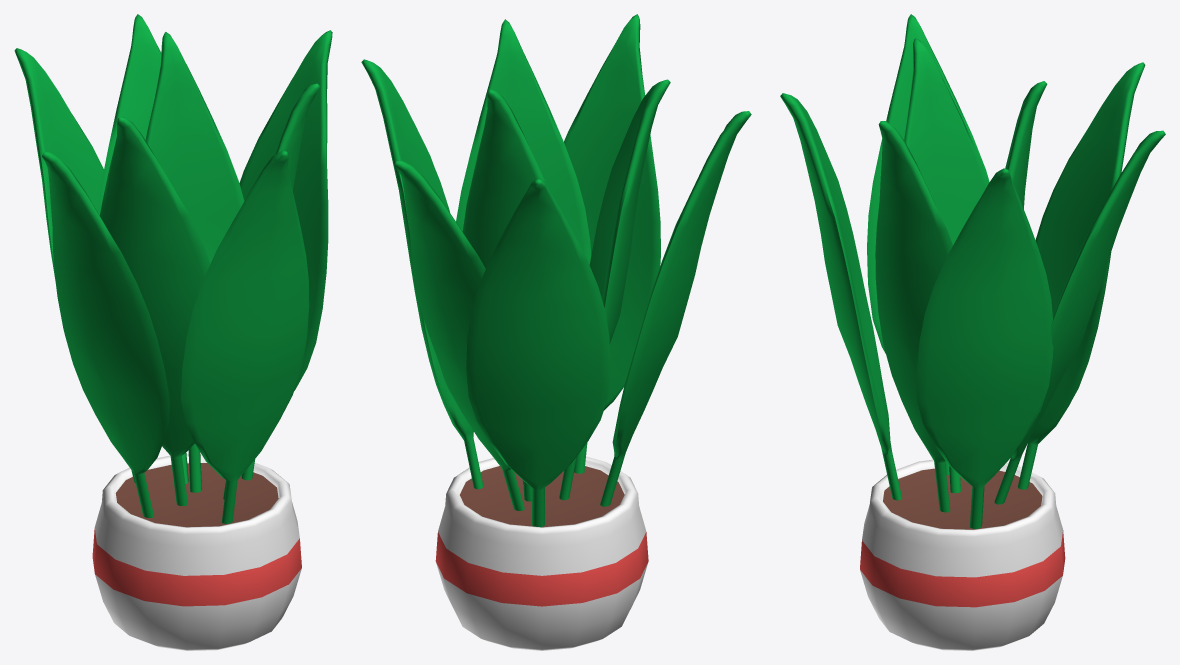
File: Town_3_Plant_5.glb
The picture shows the model from 3 angles, left to right: view 1: azimuth 30°, elevation 25°; view 2: azimuth 150°, elevation 25°; view 3: azimuth 270°, elevation 25°; orthographic projection. The views are drawn at different scales.
Parts seen in each view (by area): view 1: Town_3_Plant_5; view 2: Town_3_Plant_5; view 3: Town_3_Plant_5.
Part boxes in pixels (left/top/right/bottom): Town_3_Plant_5: left=14, top=14, right=332, bottom=650; Town_3_Plant_5: left=361, top=14, right=751, bottom=650; Town_3_Plant_5: left=780, top=14, right=1165, bottom=650.
Size of the model in its own units: 0.6214 by 0.97 by 0.6234.
1 material, 1 textured.
